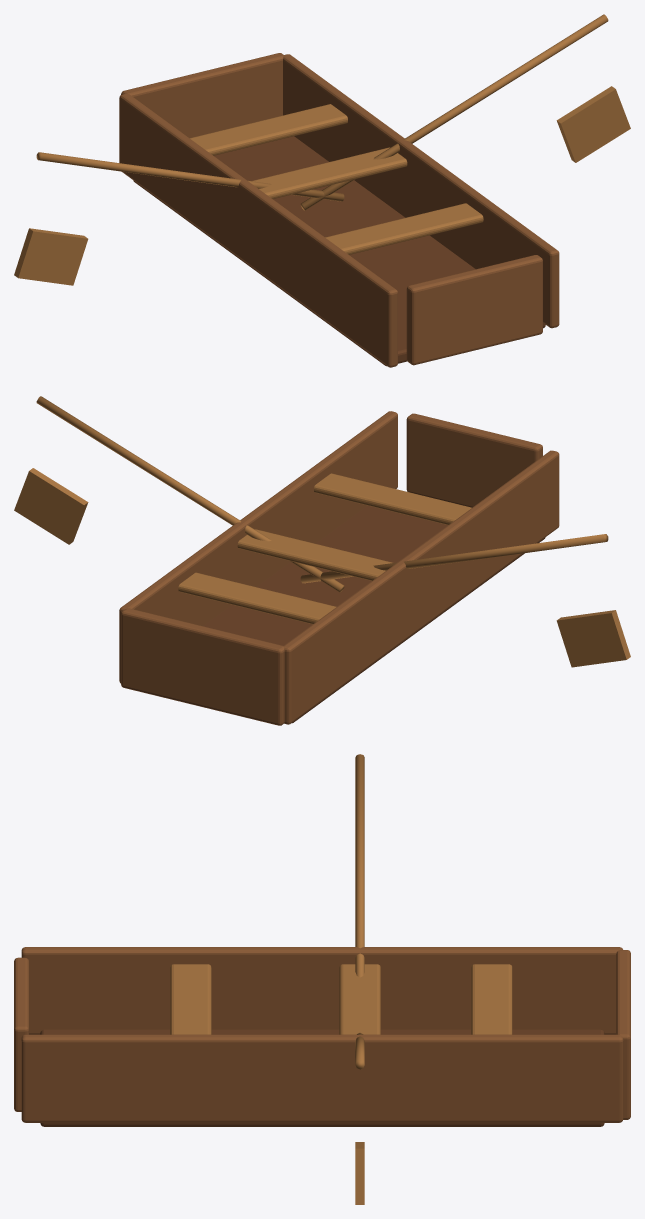
Rendered from boat.glb.
The picture shows the model from 3 angles, top to bottom: view 1: azimuth 30°, elevation 25°; view 2: azimuth 150°, elevation 25°; view 3: azimuth 270°, elevation 25°; orthographic projection. The views are drawn at different scales.
Visible parts, largest first — view 1: boat, oarL, oarR; view 2: boat, oarL, oarR; view 3: boat, oarR, oarL.
Part boxes in pixels (<box>): boat: <box>119,53,559,367</box>; oarL: <box>300,14,630,210</box>; oarR: <box>14,152,344,285</box>; boat: <box>119,411,559,725</box>; oarL: <box>14,396,344,592</box>; oarR: <box>300,534,630,667</box>; boat: <box>14,947,630,1126</box>; oarR: <box>355,754,364,977</box>; oarL: <box>355,1033,364,1204</box>.
Bounding box in the file's own units: 4.18 × 1.04 × 3.28.
